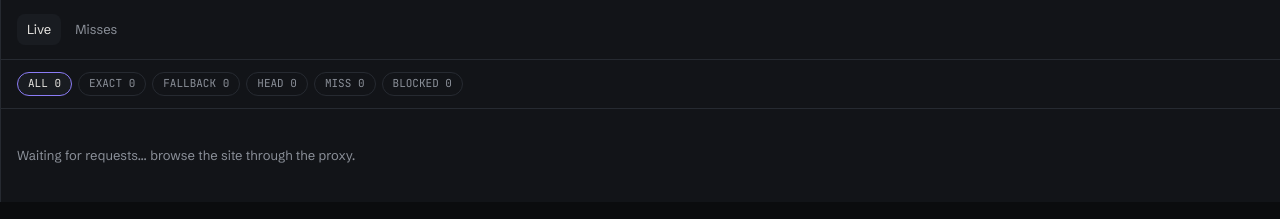
Test: the Misses tab is reassuring when empty
Click the tab "Misses".
click(96, 29)  # box x1=65 y1=14 x2=127 y2=45
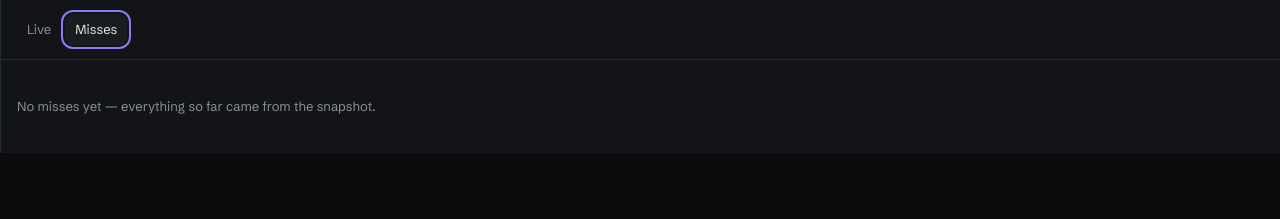
Result: the text "No misses yet — everything so far came from the snapshot." is shown at x1=17 y1=98 x2=376 y2=114
